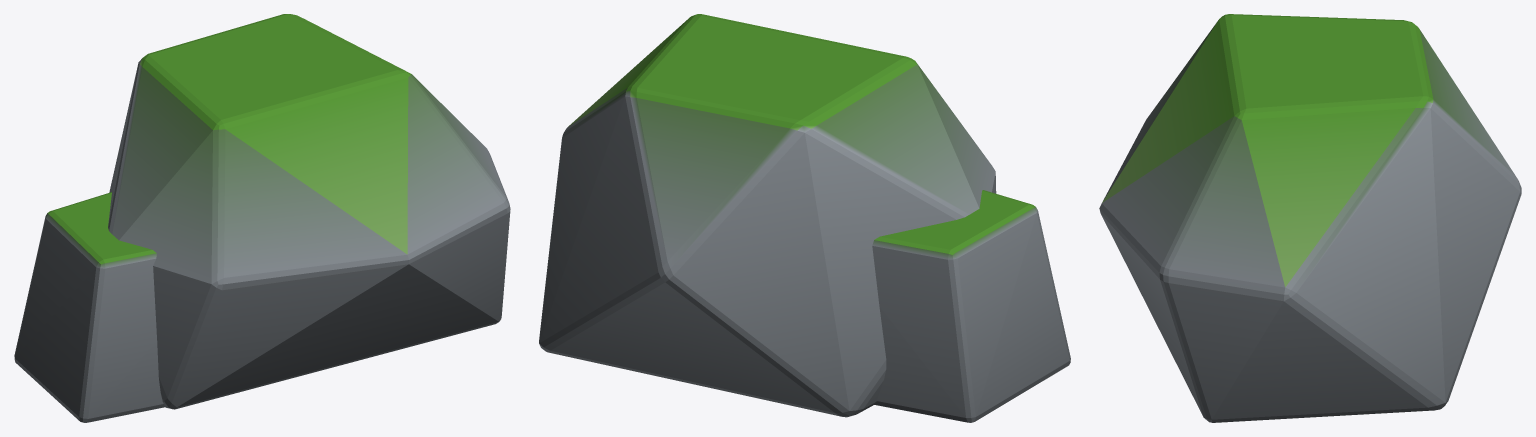
Rendered from Rock_Big_Boulder_01.fbx.
3 renders of one model, left to right at view 1: azimuth 30°, elevation 25°; view 2: azimuth 150°, elevation 25°; view 3: azimuth 270°, elevation 25°, orthographic. The views are drawn at different scales.
Visible parts, largest first — view 1: Rock_Big_Boulder_01; view 2: Rock_Big_Boulder_01; view 3: Rock_Big_Boulder_01.
Boxes of the visible parts, bbox=[...] form: Rock_Big_Boulder_01: bbox=[14, 14, 510, 422]; Rock_Big_Boulder_01: bbox=[539, 14, 1070, 422]; Rock_Big_Boulder_01: bbox=[1099, 14, 1521, 422].
Bounding box in the file's own units: 338 × 190 × 266.
